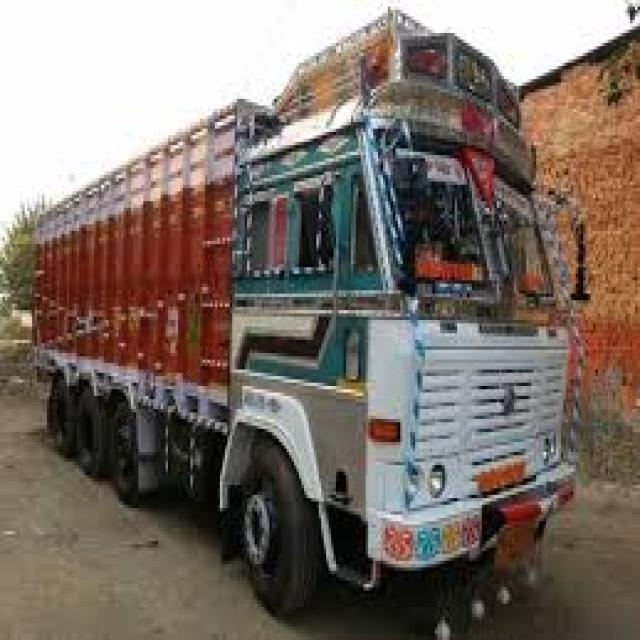covered: (27, 6, 591, 618)
